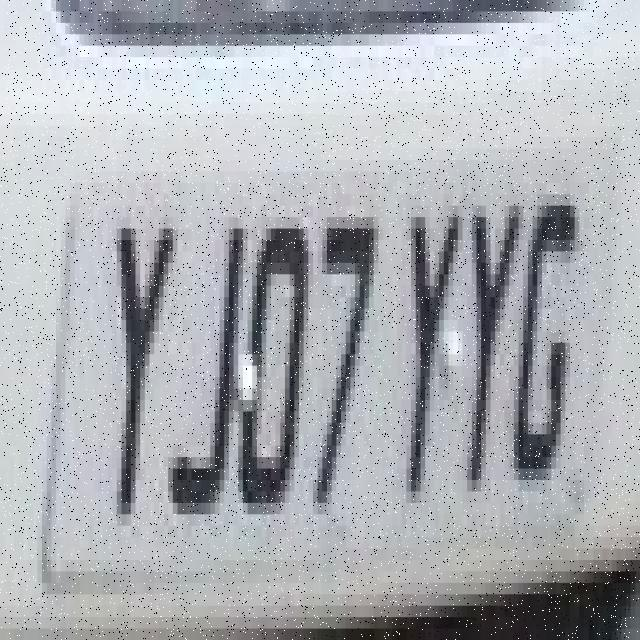licenseplate: (62, 185, 592, 572)
